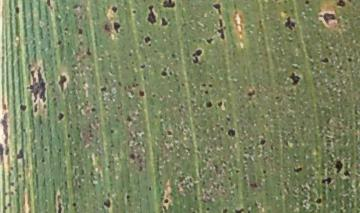tarspot: (25, 64, 49, 105), (1, 111, 11, 155), (317, 10, 338, 26), (189, 46, 204, 66), (55, 72, 69, 93), (54, 188, 65, 213), (282, 14, 298, 31), (146, 4, 157, 27), (216, 17, 226, 42), (287, 71, 301, 86), (209, 2, 224, 16), (111, 19, 122, 35), (102, 193, 113, 208), (334, 158, 343, 176), (1, 141, 7, 167), (160, 1, 177, 10), (142, 34, 153, 47), (226, 128, 237, 140), (291, 164, 304, 174), (246, 88, 257, 99), (55, 111, 65, 123), (15, 148, 25, 160), (159, 15, 169, 27), (131, 76, 140, 89), (159, 67, 169, 78), (335, 1, 347, 10), (320, 177, 332, 186), (204, 99, 214, 109), (109, 4, 119, 14), (44, 1, 54, 11), (248, 180, 259, 189), (85, 44, 93, 56), (37, 114, 45, 126), (320, 55, 329, 65), (204, 36, 214, 45), (125, 113, 134, 123), (107, 127, 117, 136), (103, 22, 111, 33), (126, 153, 137, 161), (32, 103, 39, 115), (137, 88, 146, 97), (18, 104, 27, 113), (135, 164, 144, 173), (98, 84, 107, 93), (76, 27, 85, 36), (12, 5, 21, 14), (128, 88, 135, 99), (258, 138, 267, 146), (125, 192, 131, 204), (39, 155, 46, 165), (233, 207, 244, 213), (273, 94, 281, 102), (216, 100, 224, 108), (130, 8, 138, 16), (165, 129, 173, 137), (138, 62, 146, 70), (116, 79, 123, 88), (66, 131, 72, 141), (343, 169, 350, 177), (170, 51, 177, 59), (89, 107, 97, 114), (234, 167, 241, 175), (66, 150, 75, 156), (162, 197, 169, 204), (167, 70, 174, 77), (71, 201, 78, 208), (55, 39, 62, 46), (261, 168, 267, 176), (41, 103, 49, 109), (8, 181, 16, 187), (42, 145, 48, 153), (226, 175, 234, 181), (315, 197, 321, 204), (221, 207, 228, 213), (147, 185, 153, 192), (57, 147, 62, 155), (304, 1, 310, 7), (347, 57, 353, 63), (205, 206, 210, 213), (203, 89, 208, 95), (207, 83, 213, 88), (338, 208, 344, 213), (201, 82, 205, 89), (246, 208, 251, 213), (346, 1, 354, 4), (7, 202, 12, 206), (3, 205, 7, 210), (190, 210, 196, 213)
